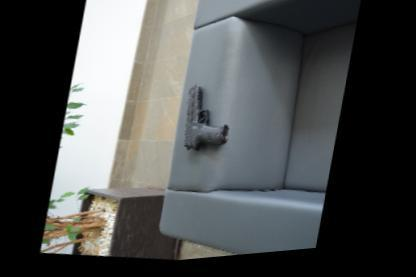pistol: (179, 83, 238, 158)
